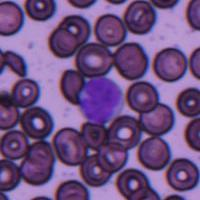M: (80, 76, 123, 125)
